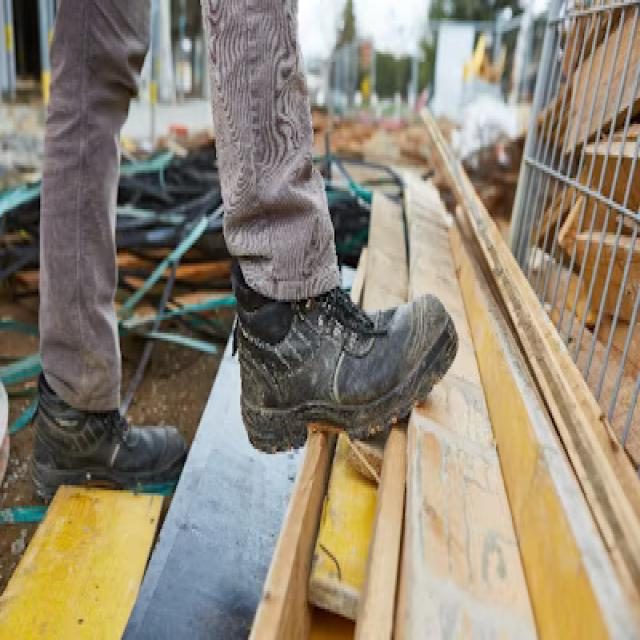Boots: (228, 261, 461, 456), (29, 366, 193, 507)
